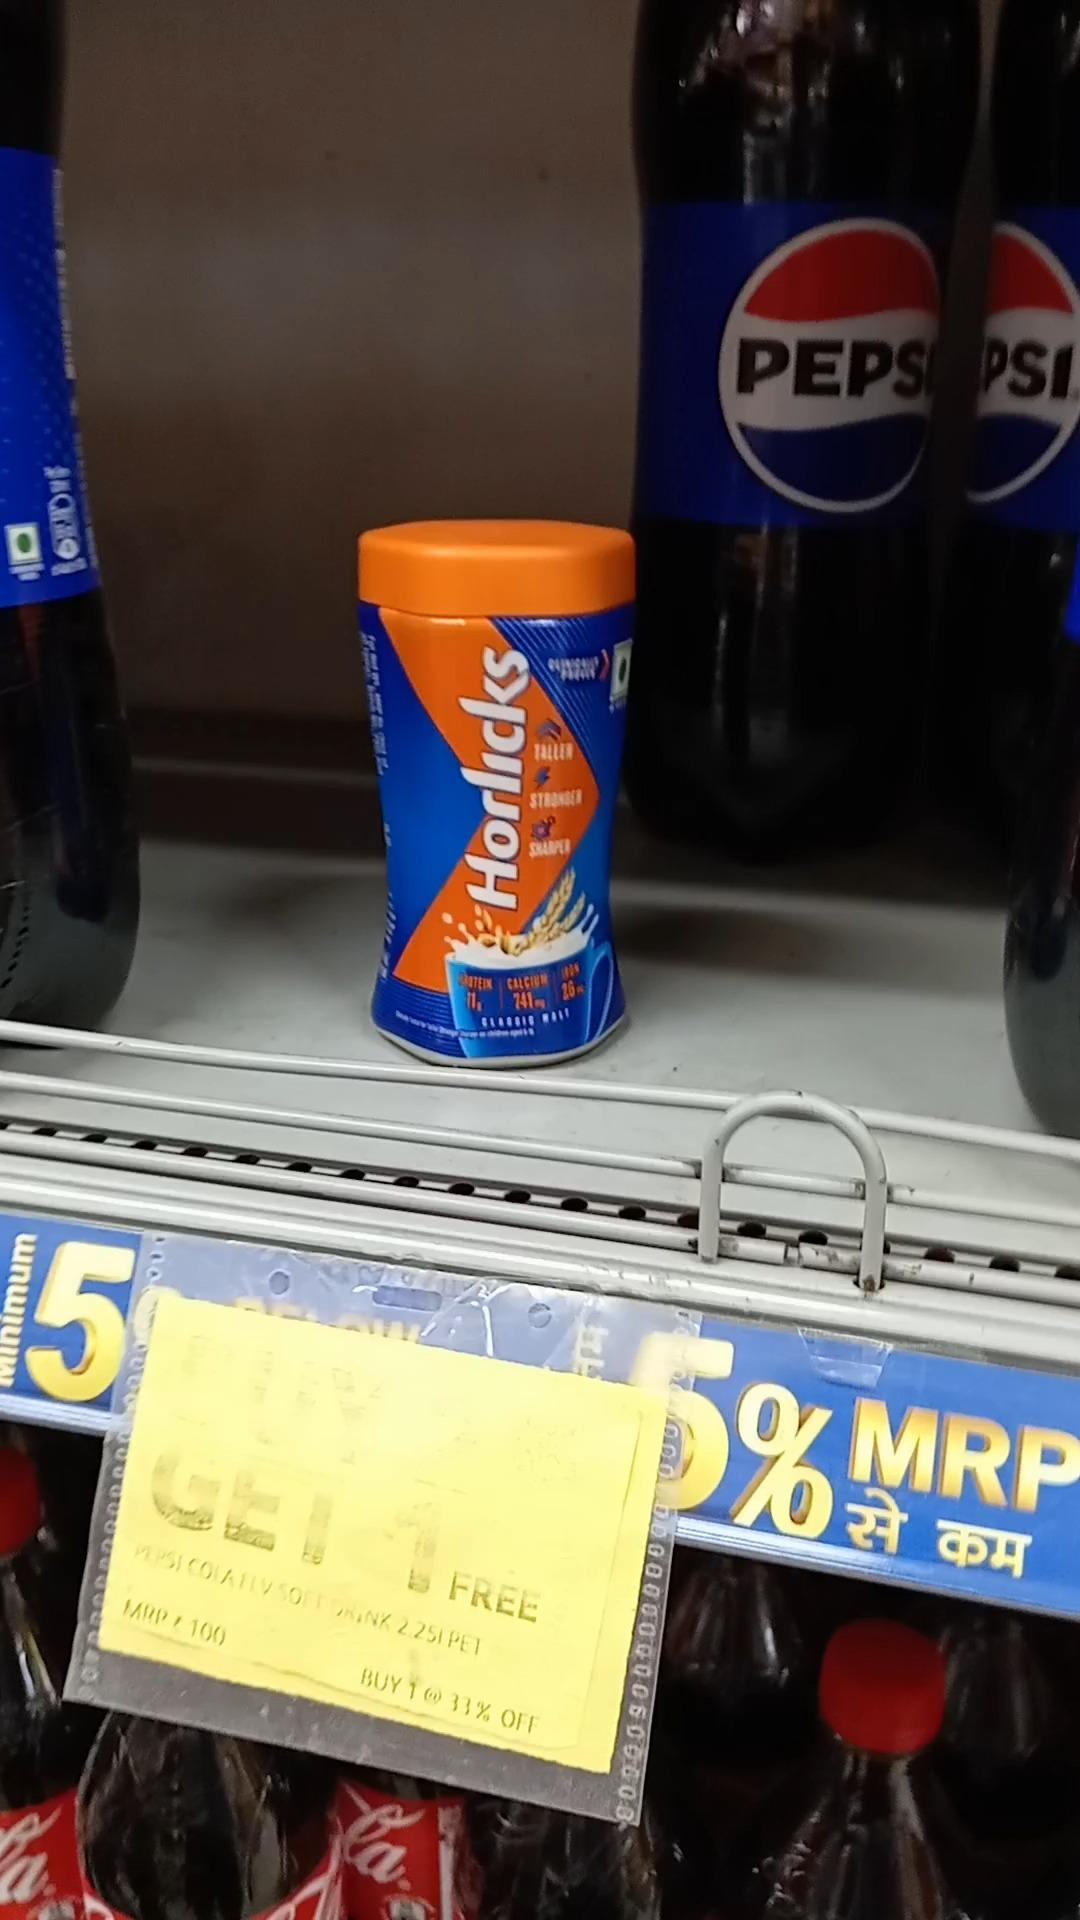HORLICK_CLASSIC_MALT_200_G_JAR: (359, 524, 637, 1065)
